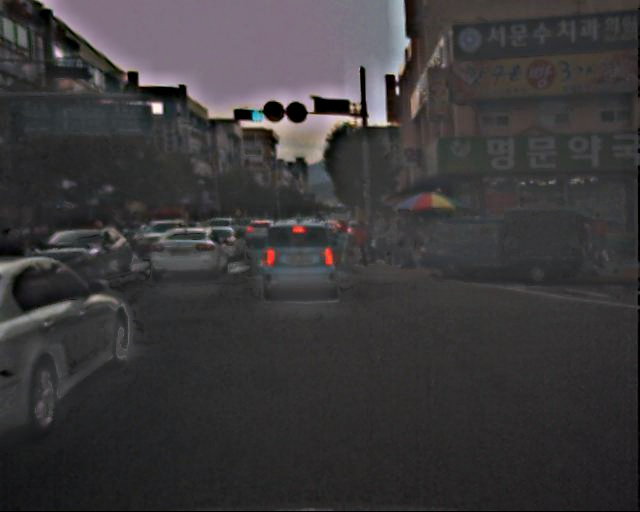person: (353, 214, 424, 268), (584, 211, 609, 271)
